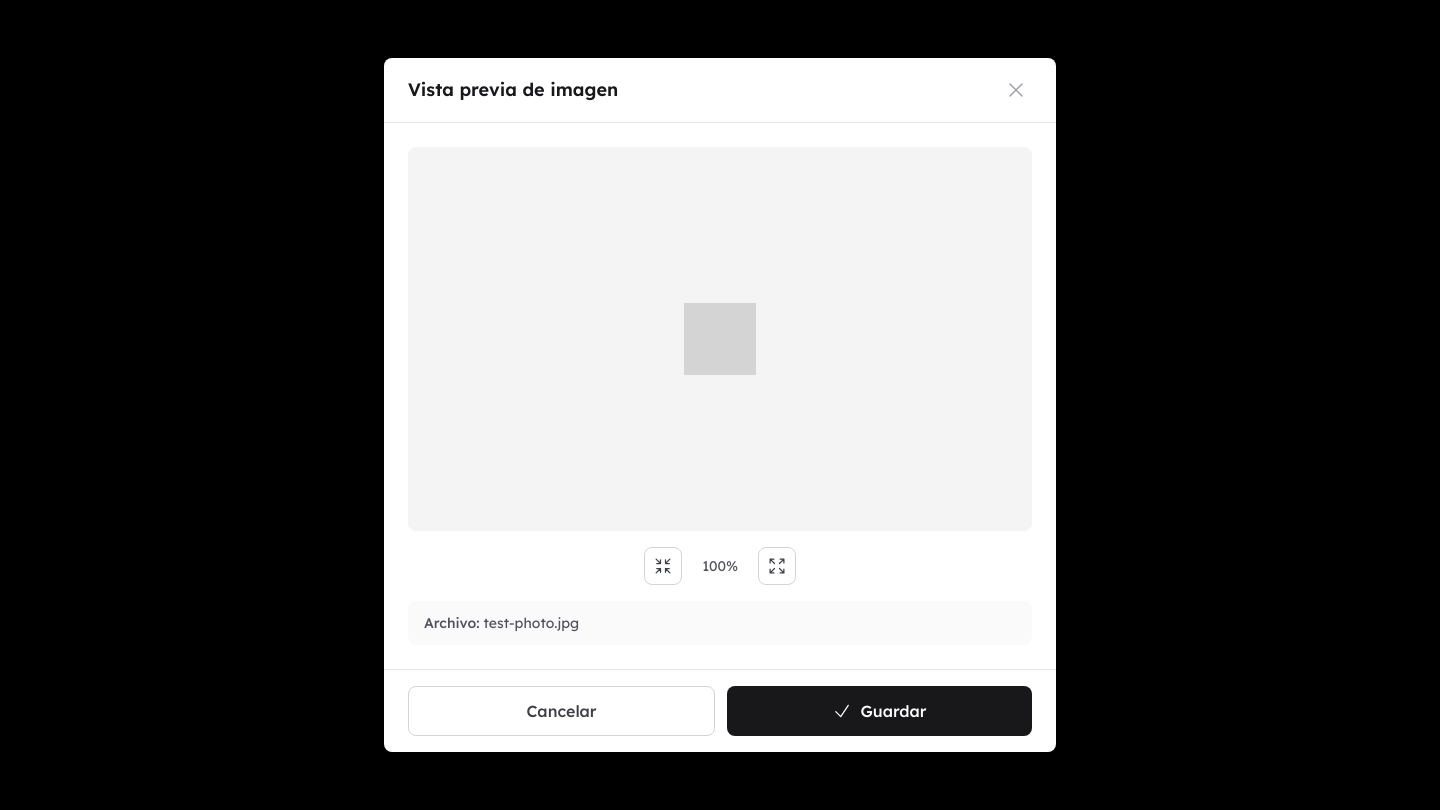
Test case: ImagePreview › allows zooming in
Click the button named "acercar" at (777, 566), box [758,547,796,585]
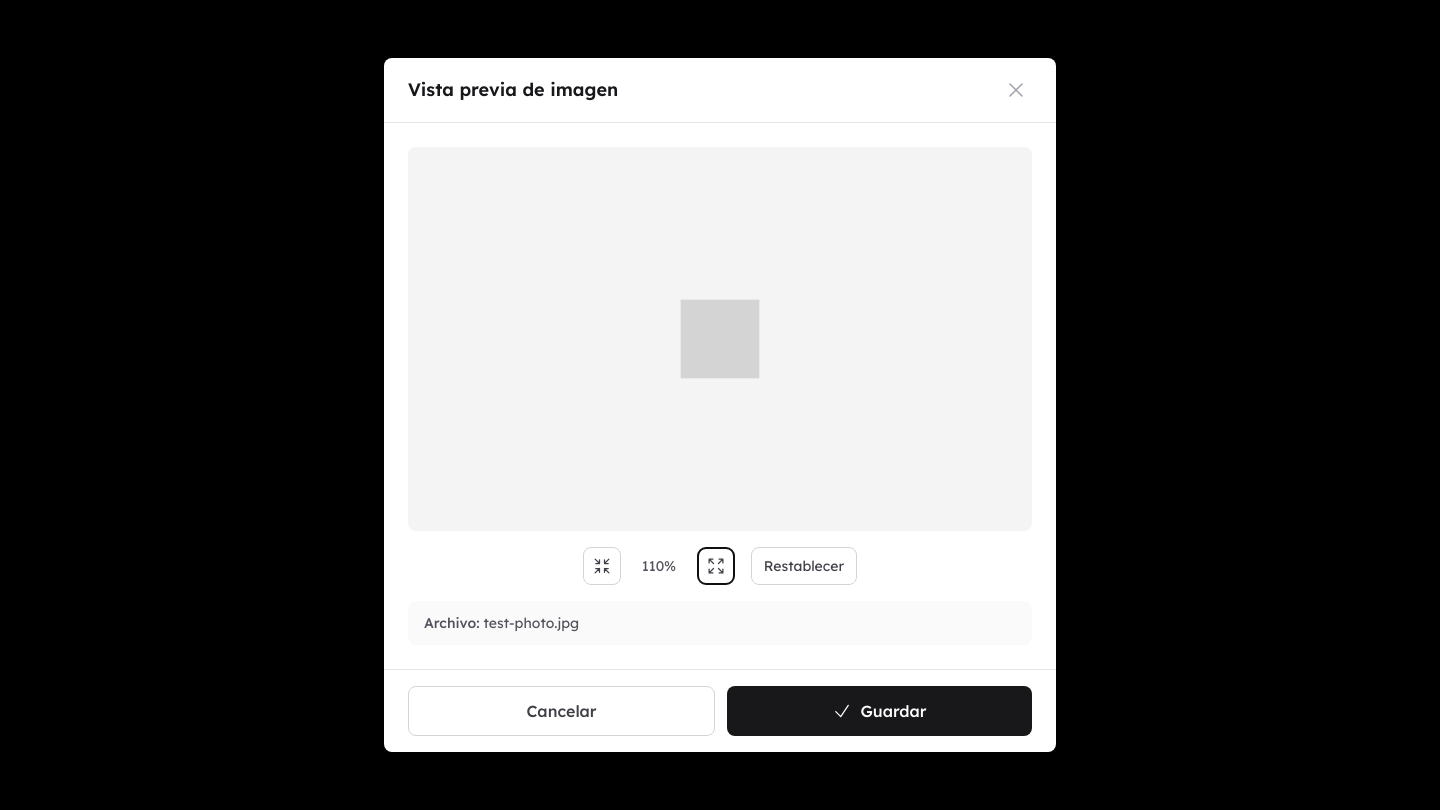
Check: the text "110%" is shown, box [642,557,676,575]
